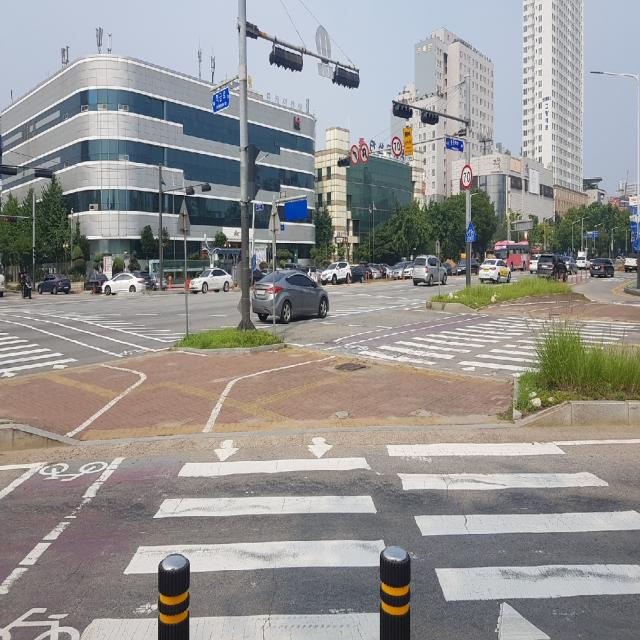횡단보도: (79, 434, 640, 639), (402, 318, 592, 362), (0, 341, 68, 367)
